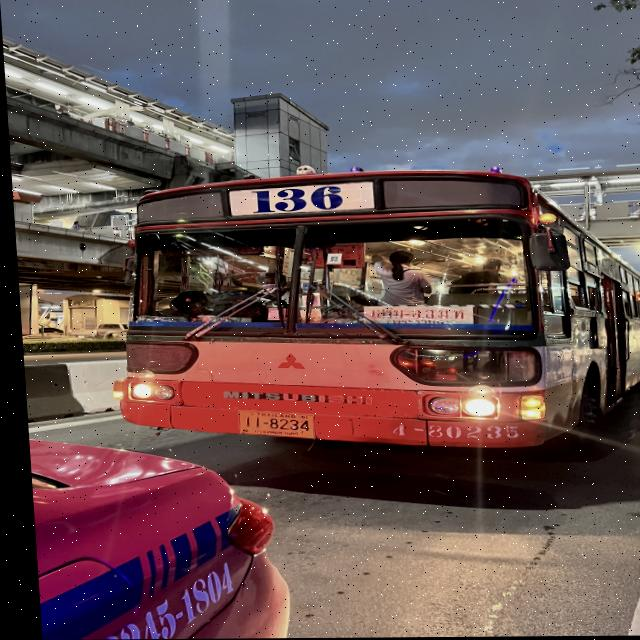BMTA-bus: (96, 168, 640, 454)
Bus-Line-Number: (237, 186, 345, 213)
Destination-Sign-Extra-Bus: (357, 305, 471, 326)
